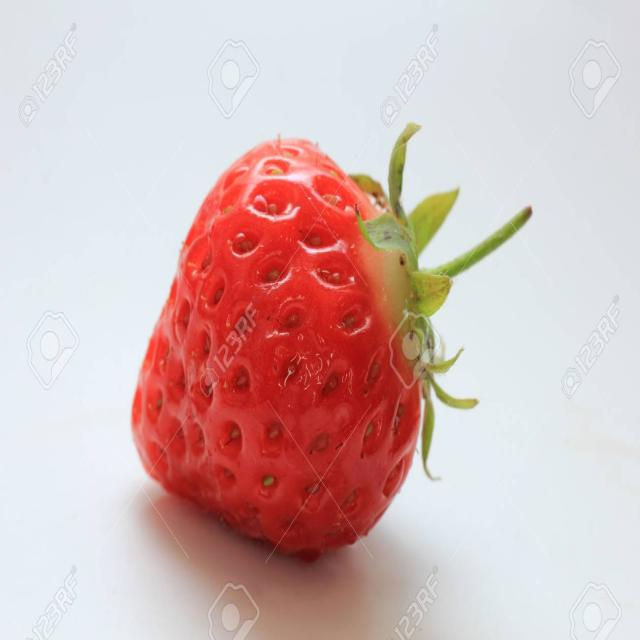strawberry: (114, 121, 544, 567)
